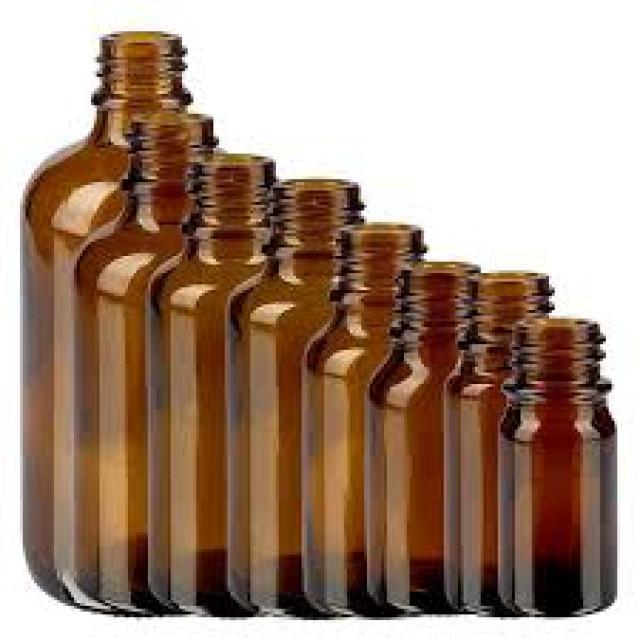Glass: (16, 31, 192, 618), (72, 114, 220, 616), (227, 178, 370, 614), (149, 152, 279, 620), (303, 222, 429, 616), (369, 258, 479, 615), (446, 270, 556, 620), (500, 320, 616, 620)
